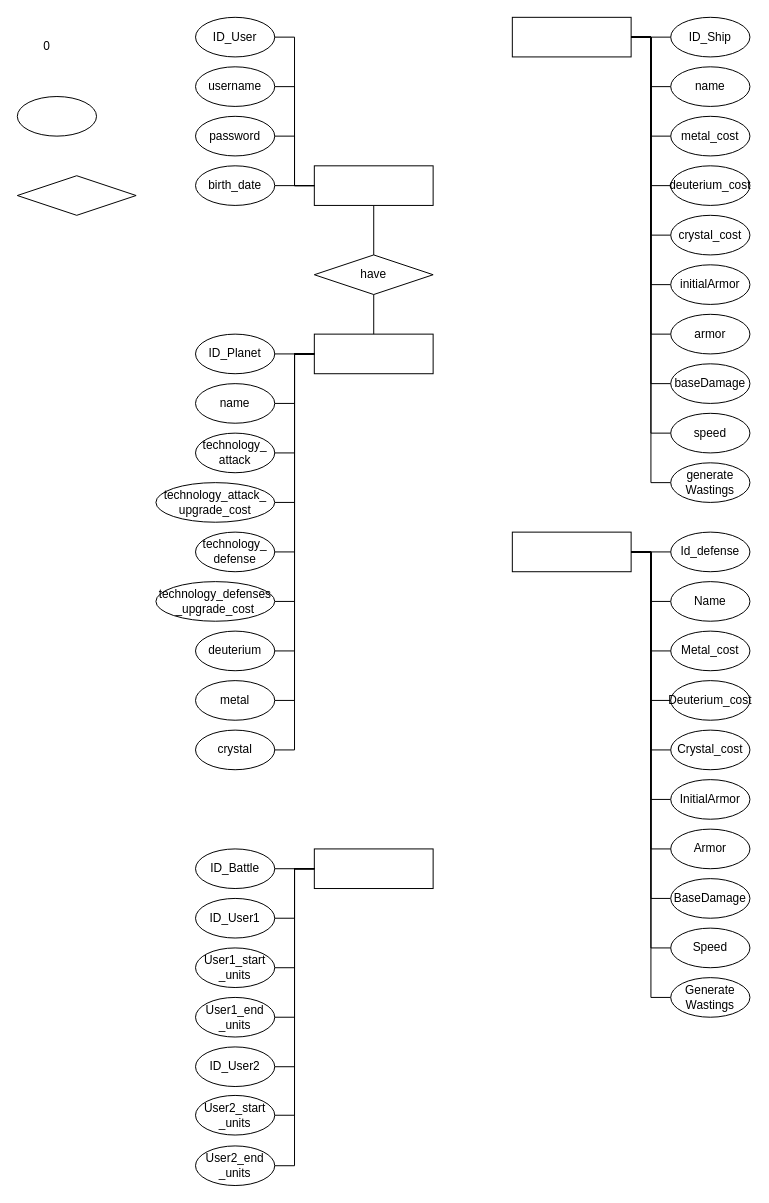
Image size: 769x1203. Some labels were removed from this diagram. The shapes that lost their labels are listed below. From the top down, each one's box as (x1, y1, x2, y2) in pixels, then its label:
(511, 16, 631, 57): SHIPS
(16, 96, 97, 136): Atribute
(16, 175, 136, 215): relation
(313, 165, 433, 205): USERS
(313, 333, 433, 374): PLANET
(511, 531, 631, 572): DEFENCES
(313, 848, 433, 889): BATTLE
